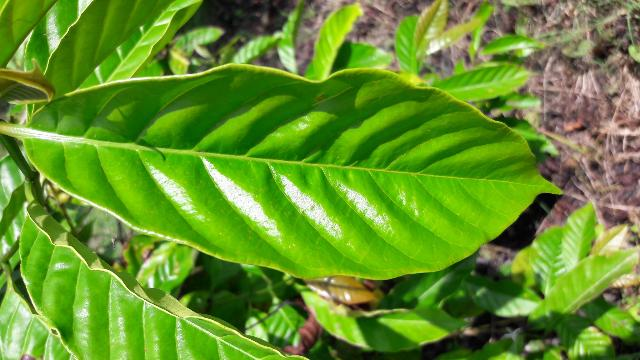healthy: (20, 61, 561, 283)
